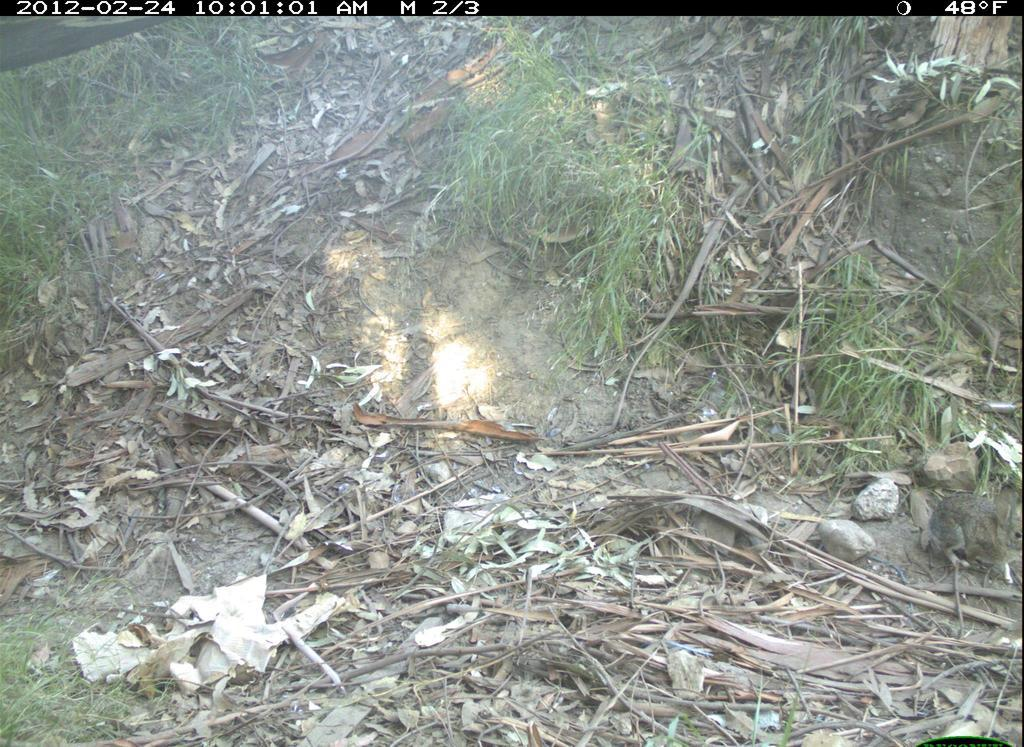rabbit: (916, 484, 1024, 592)
